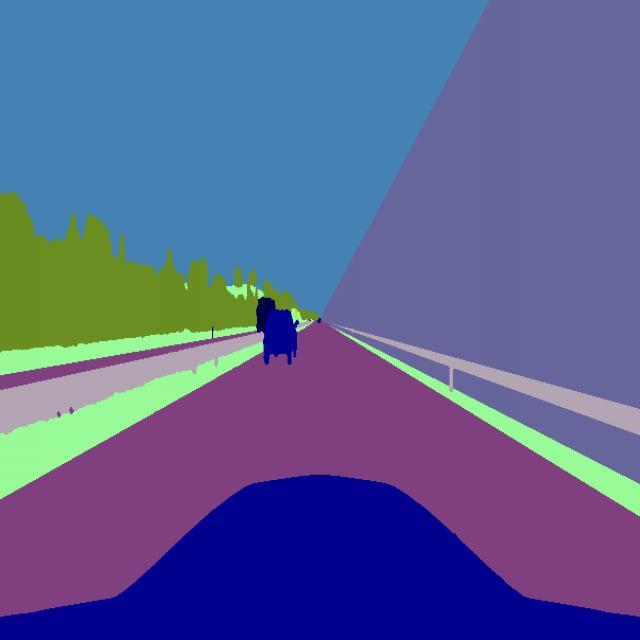safe: (260, 308, 302, 367), (254, 292, 276, 334)
